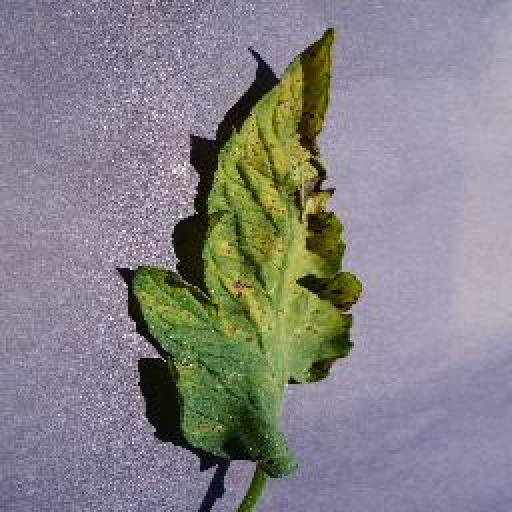Septoria: (126, 24, 360, 480)
